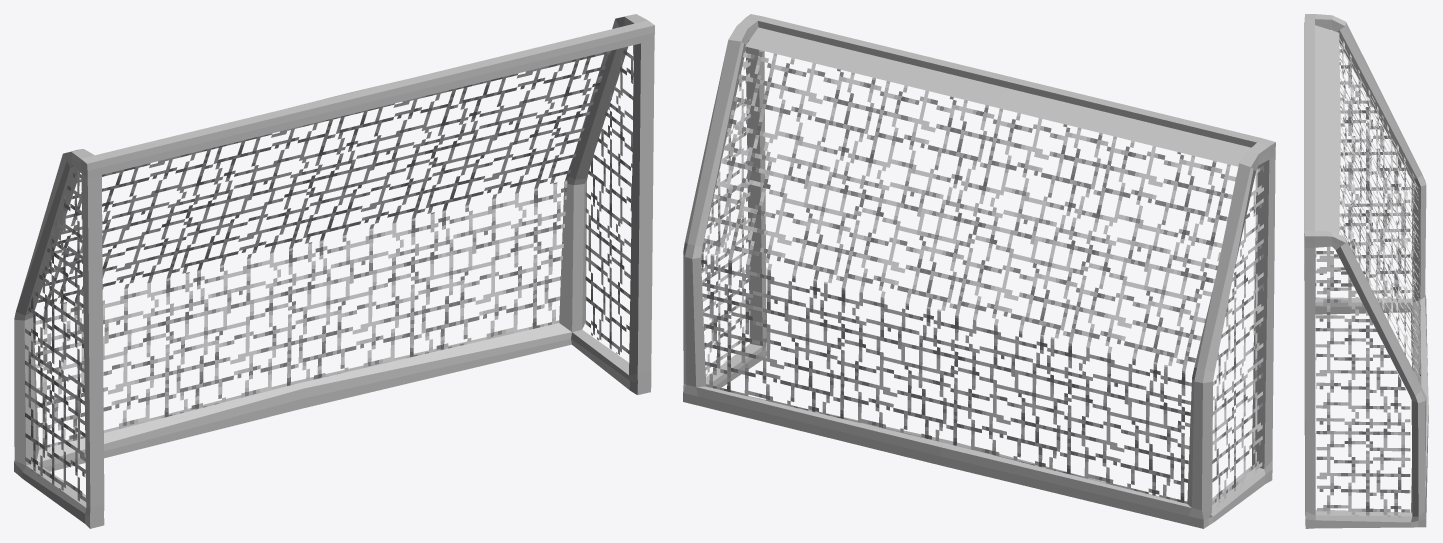
The model's file is netobject.obj.
3 renders of one model, left to right at view 1: azimuth 30°, elevation 25°; view 2: azimuth 150°, elevation 25°; view 3: azimuth 270°, elevation 25°, orthographic. The views are drawn at different scales.
Visible parts, largest first — view 1: Cube; view 2: Cube; view 3: Cube.
Part boxes in pixels (<box>): Cube: <box>14,14,654,528</box>; Cube: <box>683,14,1275,528</box>; Cube: <box>1304,14,1428,528</box>.
Size of the model in its own units: 16.59 by 10.15 by 3.88.
